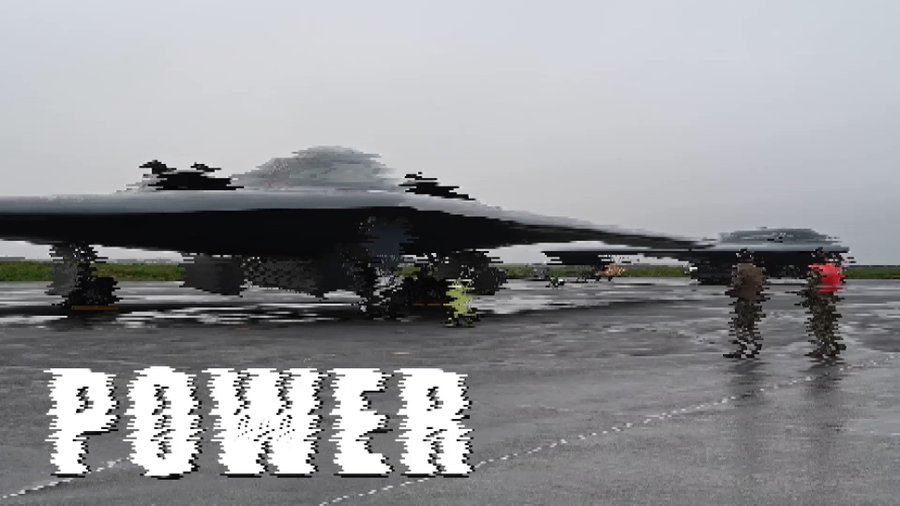airplane: (1, 145, 718, 319), (539, 225, 851, 284)
